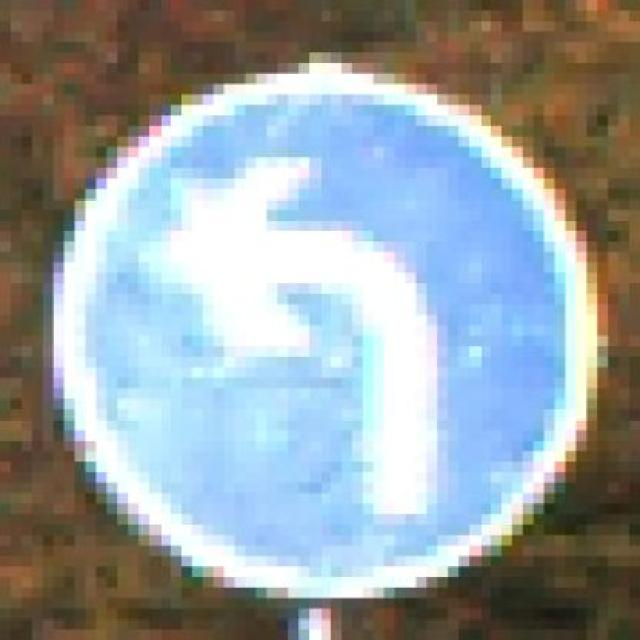Turn left ahead: (42, 52, 620, 610)
